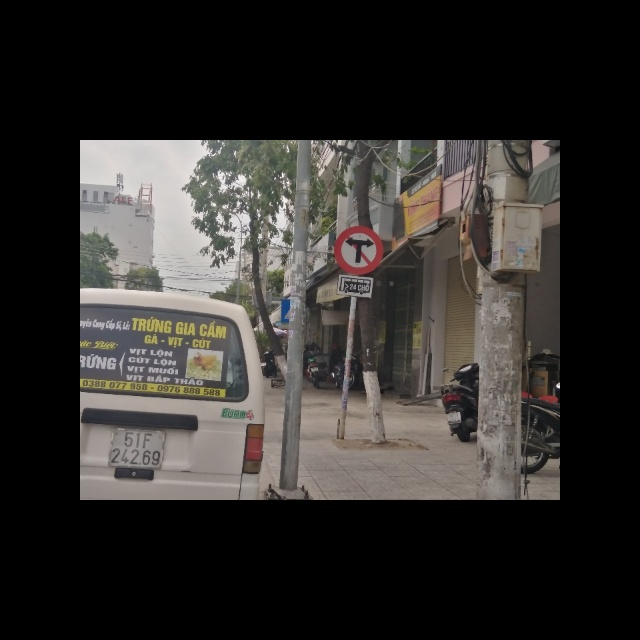Cấm rẽ trái và rẽ phải: (333, 226, 383, 275)
